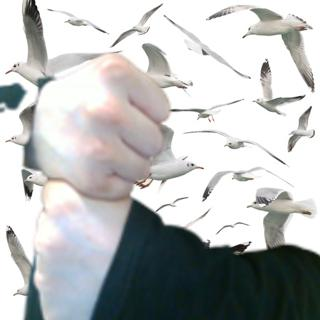CAREFUL: (19, 35, 175, 320)
